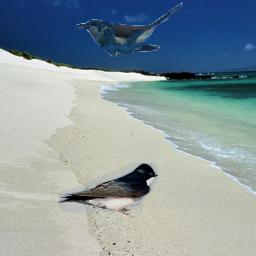Cuckoo: (75, 2, 186, 57)
Swallow: (58, 163, 158, 218)
